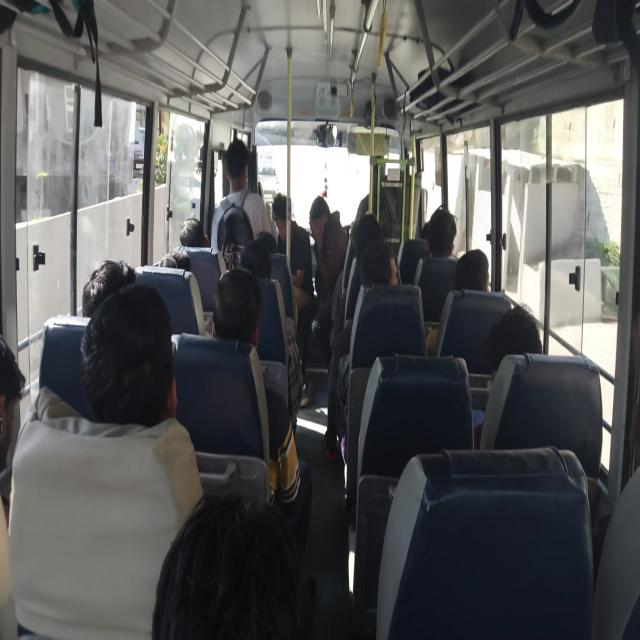person: (8, 282, 204, 638), (79, 282, 204, 520), (210, 266, 312, 552), (151, 490, 306, 639), (325, 241, 399, 462), (472, 303, 543, 449), (210, 138, 276, 264), (0, 334, 26, 638), (426, 248, 490, 356), (308, 195, 348, 364), (271, 192, 314, 310), (484, 303, 543, 379), (212, 266, 262, 348), (413, 205, 457, 286), (81, 258, 136, 318), (425, 206, 457, 260), (455, 248, 490, 292), (178, 216, 208, 248)
